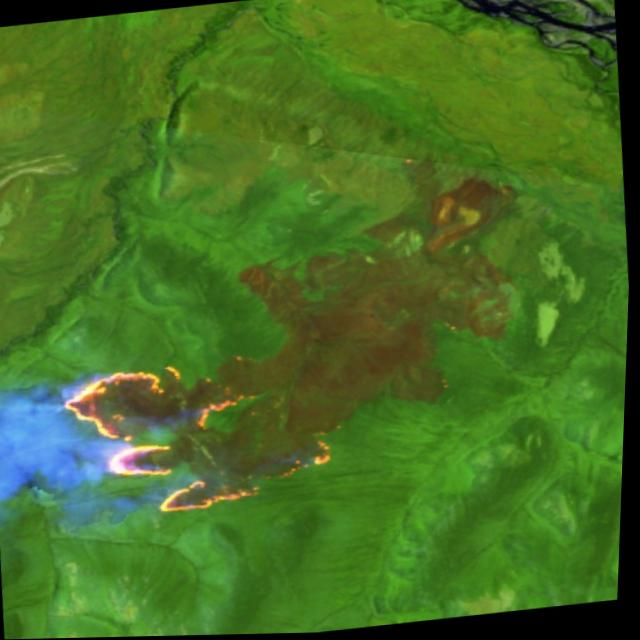fire: (52, 344, 346, 528)
